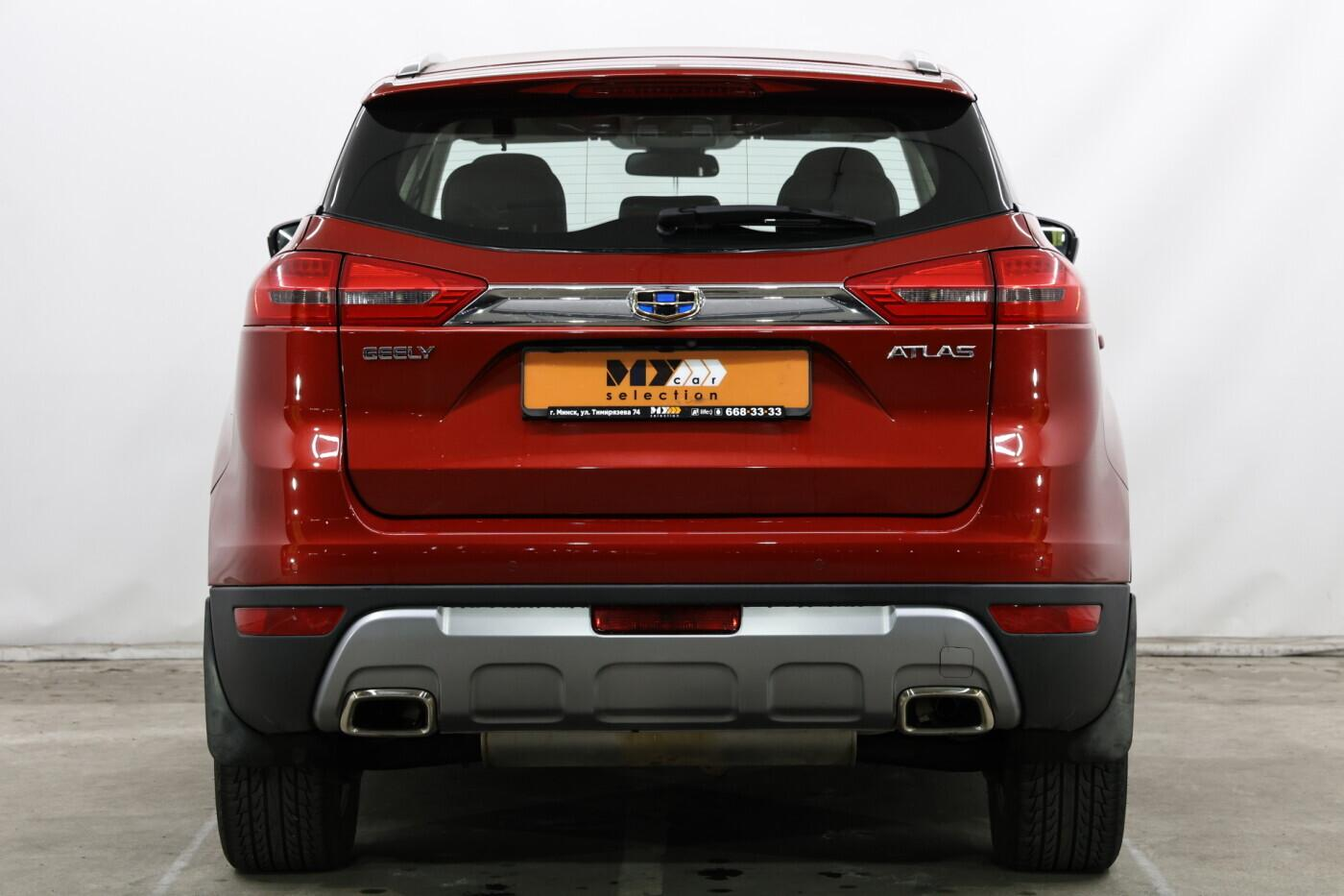Atlas_2016-2023: (196, 52, 1139, 881)
